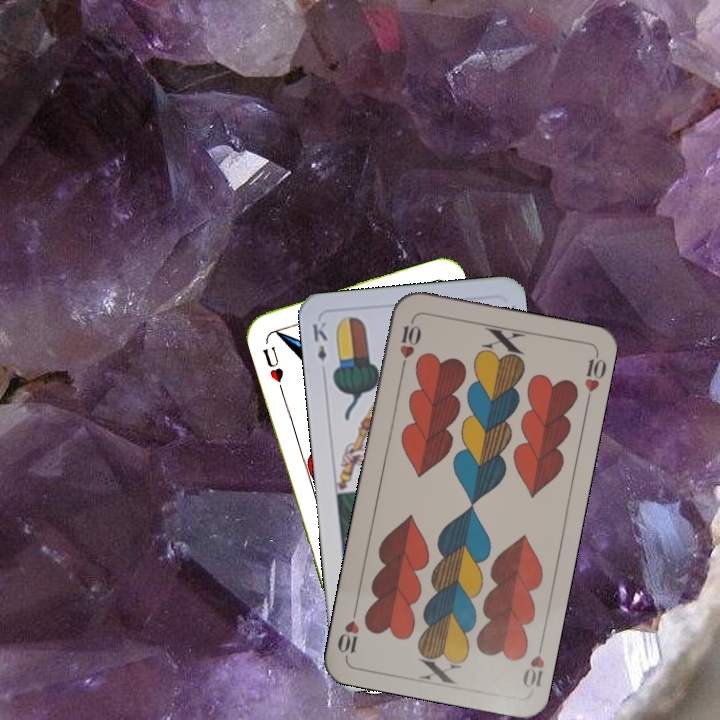EK: (308, 317, 330, 364)
H10: (395, 315, 423, 373), (518, 635, 547, 691)
HU: (259, 342, 286, 385)
